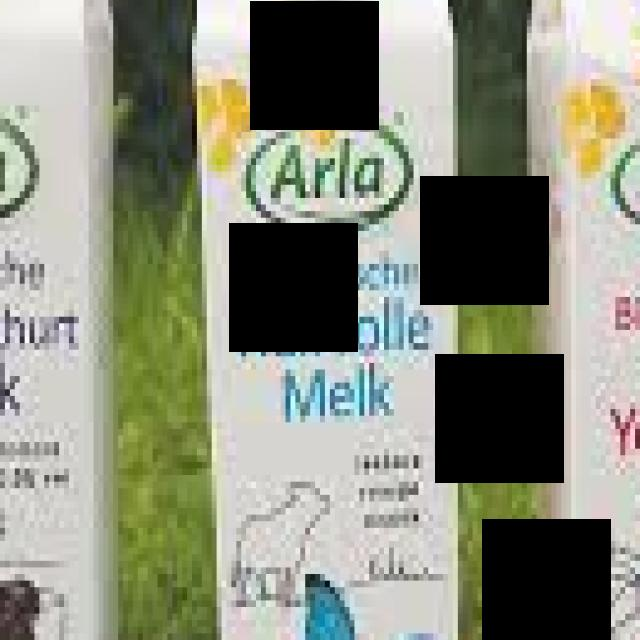milk: (168, 0, 482, 640), (0, 0, 158, 640), (522, 0, 640, 640)
